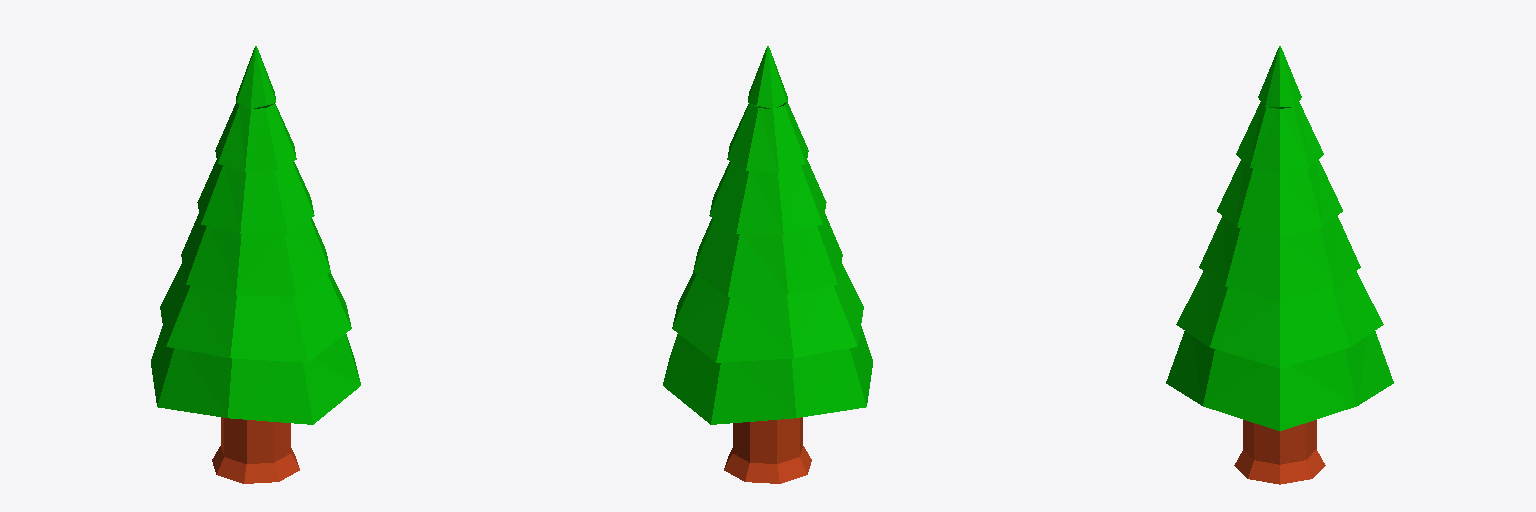
The model's file is wood.obj.
3 renders of one model, left to right at view 1: azimuth 30°, elevation 25°; view 2: azimuth 150°, elevation 25°; view 3: azimuth 270°, elevation 25°, orthographic.
Visible parts, largest first — view 1: Cylinder.001; view 2: Cylinder.001; view 3: Cylinder.001.
Part boxes in pixels (left/top/right/bottom): Cylinder.001: left=151, top=46, right=360, bottom=483; Cylinder.001: left=663, top=46, right=872, bottom=483; Cylinder.001: left=1166, top=46, right=1393, bottom=484.
Size of the model in its own units: 6.24 by 12.63 by 6.24.